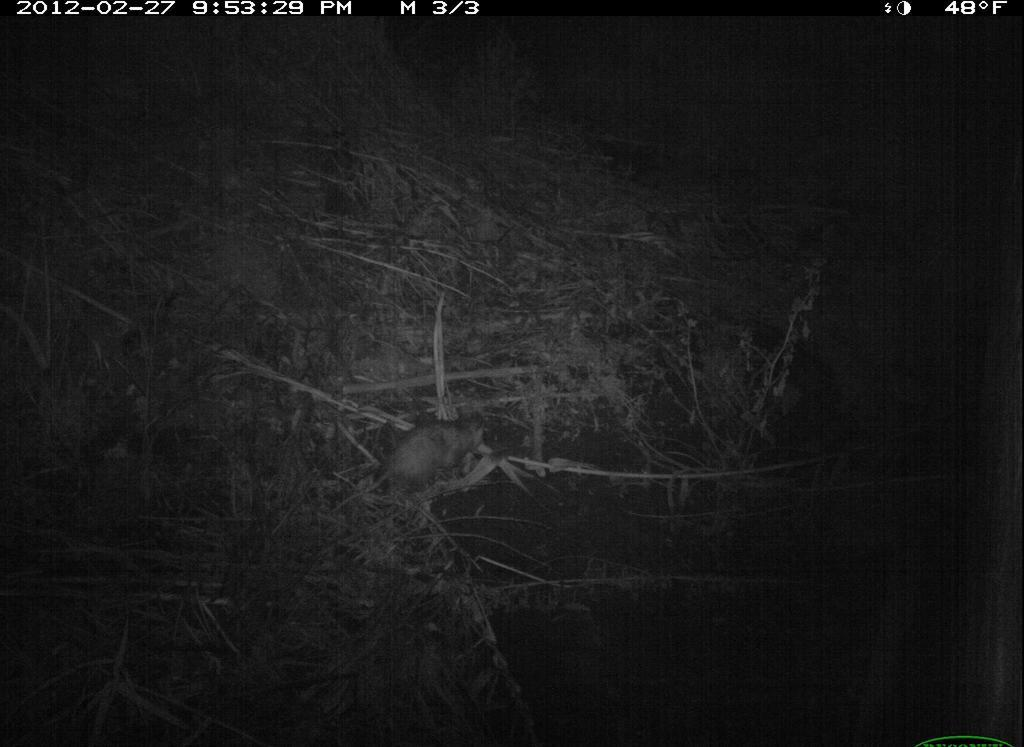opossum: (329, 411, 492, 521)
